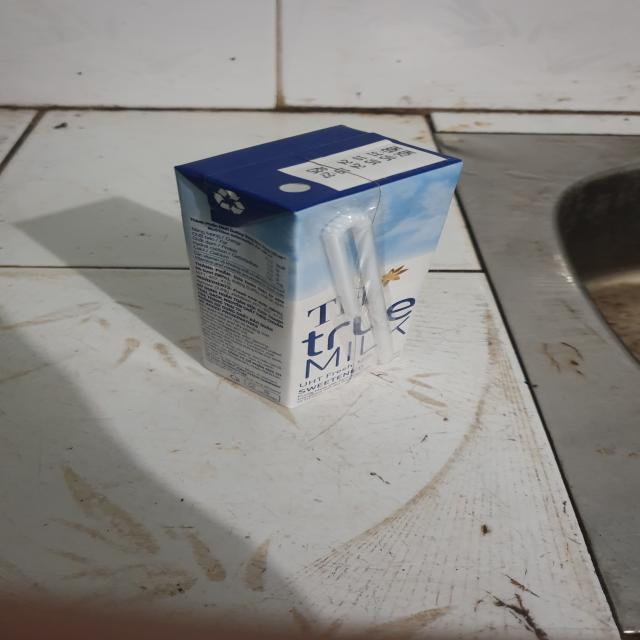TH: (179, 123, 464, 414)
